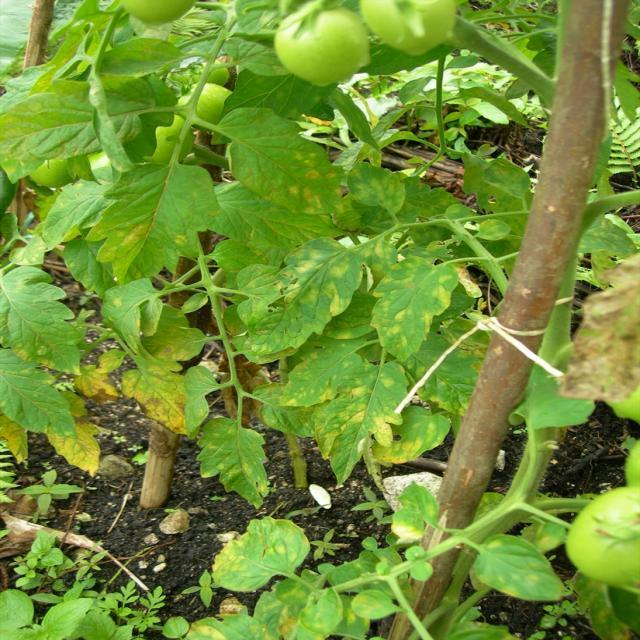Healthy Leaf: (33, 596, 89, 640), (1, 590, 36, 628)
Mosaic Virus: (244, 244, 361, 348), (324, 360, 388, 480), (373, 264, 446, 349), (267, 134, 339, 218), (205, 416, 271, 501), (478, 538, 556, 598), (209, 531, 300, 579), (346, 160, 408, 216), (476, 218, 514, 240)
